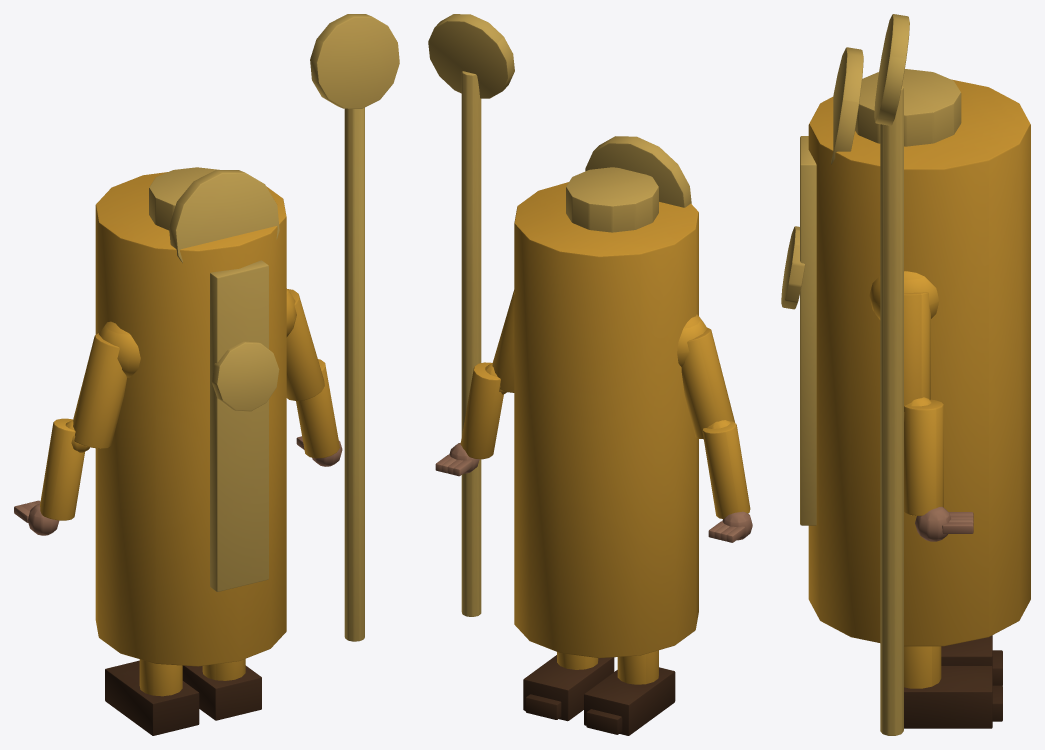
File: unit_church_sun_priest.fbx
3 renders of one model, left to right at view 1: azimuth 30°, elevation 25°; view 2: azimuth 150°, elevation 25°; view 3: azimuth 270°, elevation 25°, orthographic. The views are drawn at different scales.
Visible parts, largest first — view 1: unit_church_sun_priest; view 2: unit_church_sun_priest; view 3: unit_church_sun_priest.
Boxes of the visible parts, left/top/right/bottom form: unit_church_sun_priest: left=14, top=14, right=399, bottom=735; unit_church_sun_priest: left=428, top=14, right=752, bottom=735; unit_church_sun_priest: left=781, top=14, right=1030, bottom=735.
Size of the model in its own units: 1.33 by 2.43 by 0.7197.
